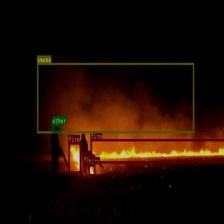fire: (90, 138, 224, 162), (68, 142, 81, 173), (88, 164, 95, 176), (84, 162, 86, 172)
smoke: (37, 62, 194, 133)
